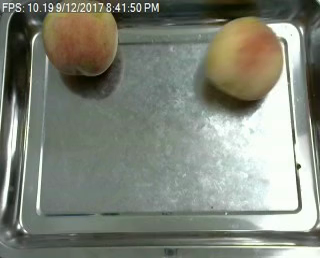Peach: (205, 17, 284, 99), (41, 0, 119, 76)
